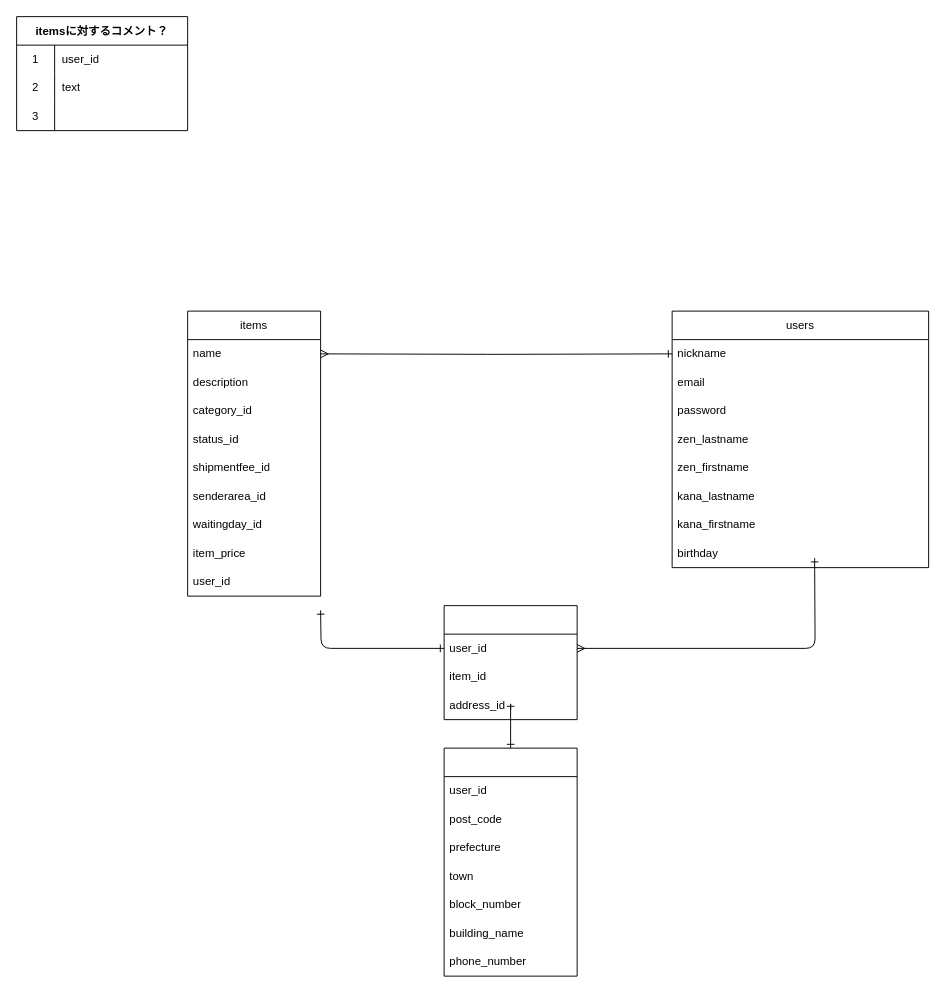
The diagram is 945 pixels wide and 993 high, and some of its shapes have lost their labels. The box of each missing label's shape, as (x1, y1, x2, y2) in pixels:
addresses: (443, 747, 577, 976)
orders: (443, 605, 577, 720)
